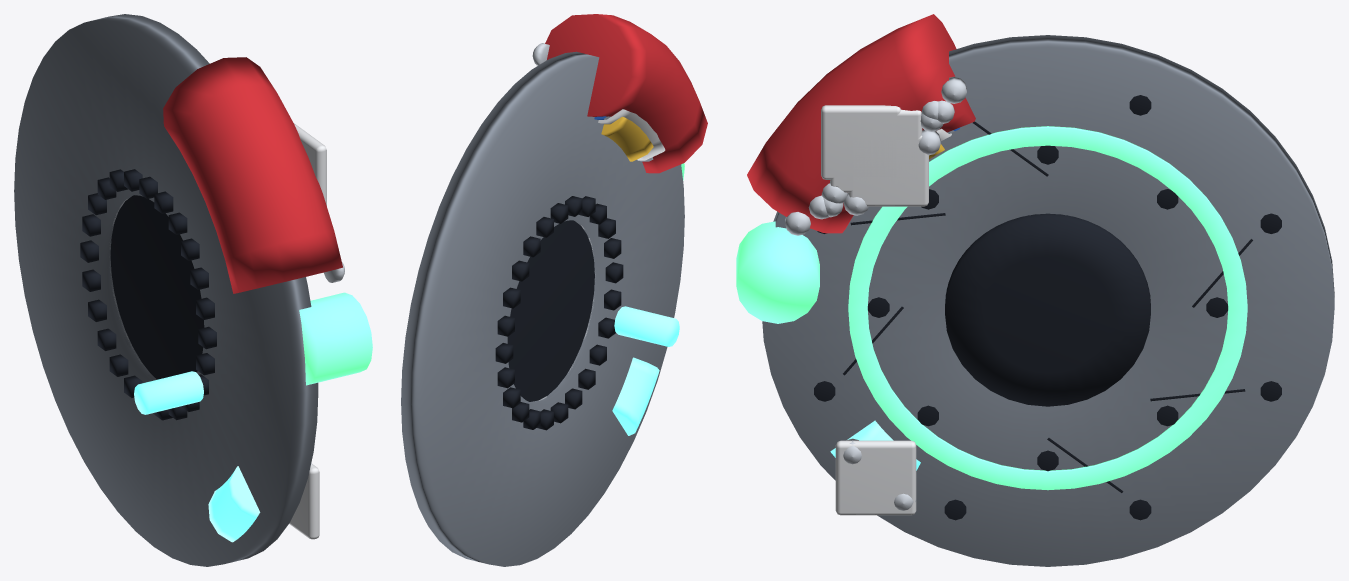
File: parts_brakes.glb
3 renders of one model, left to right at view 1: azimuth 30°, elevation 25°; view 2: azimuth 150°, elevation 25°; view 3: azimuth 270°, elevation 25°, orthographic. The views are drawn at different scales.
Visible parts, largest first — view 1: SportRotor, SportBody, SportHat, RegenBox, DriftHandBody, AbsSensor, DriftHandFace, SportFace; view 2: SportRotor, SportBody, SportHat, DriftHandBody, AbsSensor, LightBody, AbsBody, DriftRotor; view 3: SportRotor, SportHat, RegenCoil, SportBody, RegenBox, DriftHandFace, SportFace, LightFace, DriftFace.
Part boxes in pixels (x1,y1,x2,y2): SportRotor: (14, 14, 318, 566); SportBody: (163, 57, 342, 293); SportHat: (110, 195, 204, 379); RegenBox: (299, 292, 372, 385); DriftHandBody: (208, 466, 260, 542); AbsSensor: (134, 371, 203, 414); DriftHandFace: (289, 464, 319, 539); SportFace: (294, 123, 326, 205); SportRotor: (401, 51, 684, 566); SportBody: (545, 14, 707, 173); SportHat: (507, 220, 594, 401); DriftHandBody: (612, 357, 659, 435); AbsSensor: (614, 306, 679, 346); LightBody: (601, 116, 653, 161); AbsBody: (598, 109, 665, 160); DriftRotor: (530, 221, 598, 402); SportRotor: (762, 35, 1334, 566); SportHat: (945, 213, 1150, 406); RegenCoil: (848, 126, 1247, 490); SportBody: (747, 14, 975, 233); RegenBox: (736, 221, 819, 323); DriftHandFace: (835, 440, 916, 515); SportFace: (821, 105, 900, 179); LightFace: (848, 135, 928, 206); DriftFace: (846, 109, 922, 180).
Size of the model in its own units: 0.1 by 0.3706 by 0.3715.
